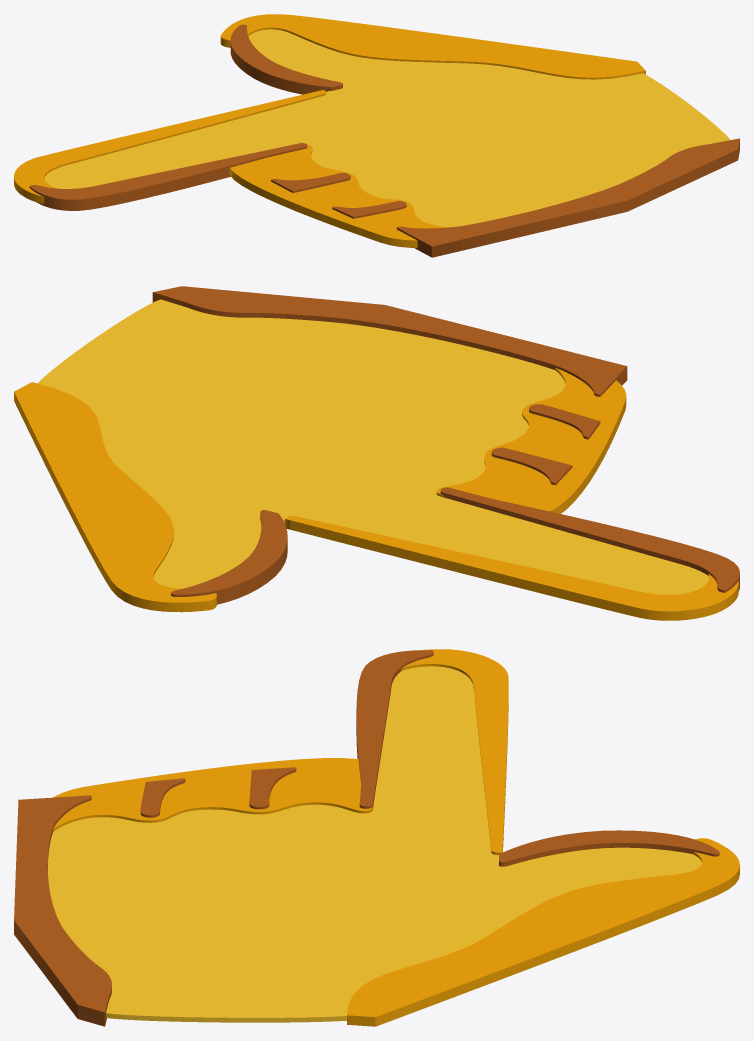
File: emoji_u1f448.glb
3 views of the same model, one above another, from view 1: azimuth 30°, elevation 25°; view 2: azimuth 150°, elevation 25°; view 3: azimuth 270°, elevation 25° (orthographic). The views are drawn at different scales.
Visible parts, largest first — view 1: emoji_u1f448; view 2: emoji_u1f448; view 3: emoji_u1f448.
Boxes of the visible parts, x1=… form: emoji_u1f448: x1=14, y1=14, x2=739, y2=257; emoji_u1f448: x1=14, y1=286, x2=739, y2=620; emoji_u1f448: x1=14, y1=649, x2=739, y2=1026.
Bounding box in the file's own units: 0.0331 × 0.0006 × 0.0276.
